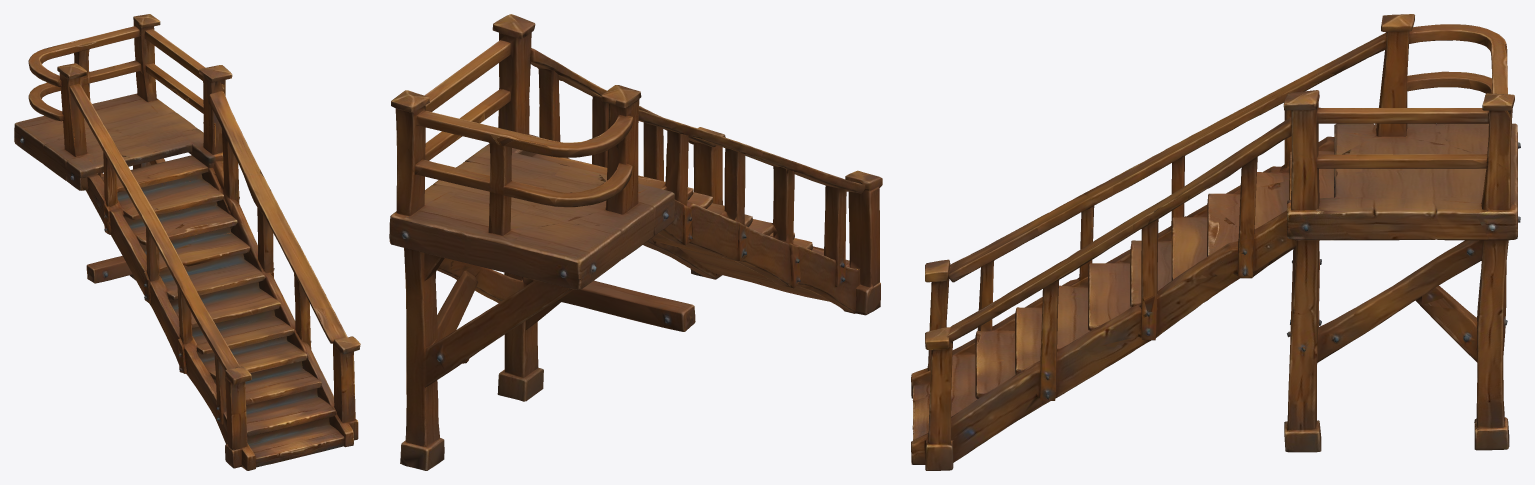
Rendered from wooden-staircase.glb.
3 views of the same model, side by side, from view 1: azimuth 30°, elevation 25°; view 2: azimuth 150°, elevation 25°; view 3: azimuth 270°, elevation 25° (orthographic). The views are drawn at different scales.
Visible parts, largest first — view 1: SM_WoodenStaircase; view 2: SM_WoodenStaircase; view 3: SM_WoodenStaircase.
Boxes of the visible parts, x1,y1,x2,y2 form: SM_WoodenStaircase: (14,14,360,470); SM_WoodenStaircase: (389,14,882,470); SM_WoodenStaircase: (911,14,1520,470).
Size of the model in its own units: 2.11 by 4 by 5.84.
Materials: 1 (1 with a texture image).
